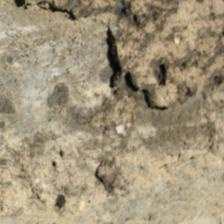Crack: (52, 13, 122, 101)
